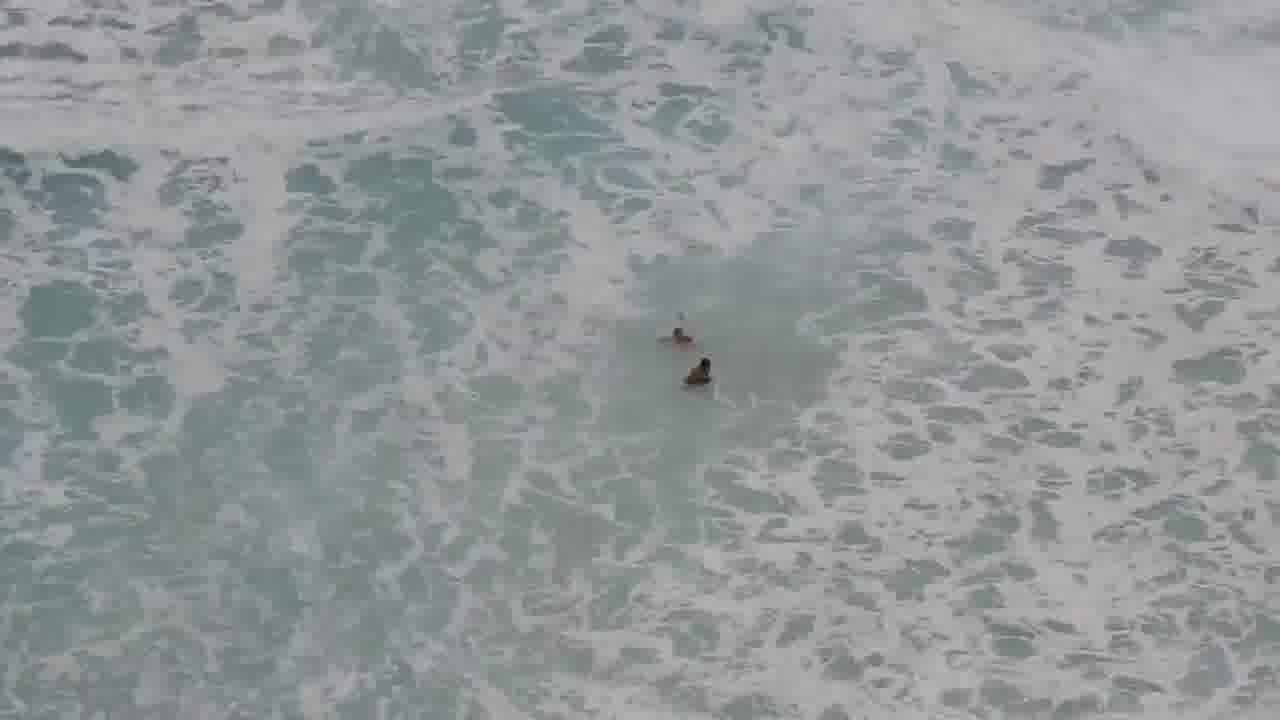swimmer: (673, 351, 724, 395), (657, 320, 693, 354)
